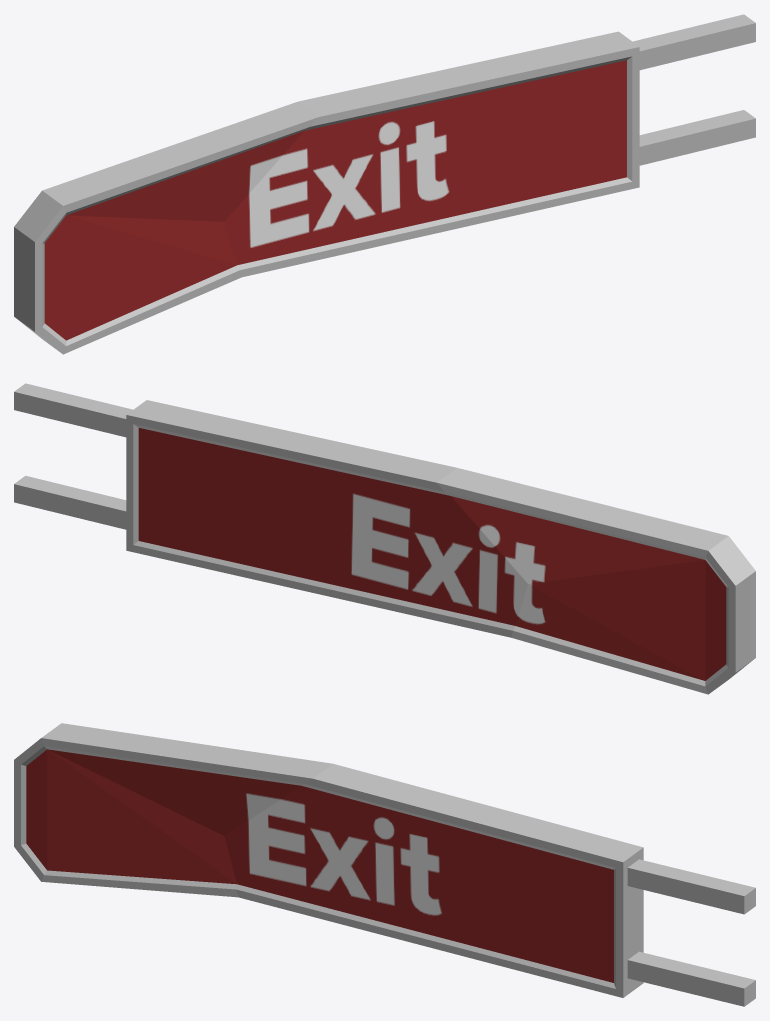
File: SM_Direction_Indicator_04_B.fbx
The picture shows the model from 3 angles, top to bottom: view 1: azimuth 30°, elevation 25°; view 2: azimuth 150°, elevation 25°; view 3: azimuth 330°, elevation 25°; orthographic projection. The views are drawn at different scales.
Parts seen in each view (by area): view 1: SM_Direction_Indicator_04_B; view 2: SM_Direction_Indicator_04_B; view 3: SM_Direction_Indicator_04_B.
Boxes of the visible parts, <box> form: SM_Direction_Indicator_04_B: <box>14,14,755,354</box>; SM_Direction_Indicator_04_B: <box>14,383,755,694</box>; SM_Direction_Indicator_04_B: <box>14,723,755,1006</box>.
Size of the model in its own units: 73.76 by 15.55 by 5.83.
